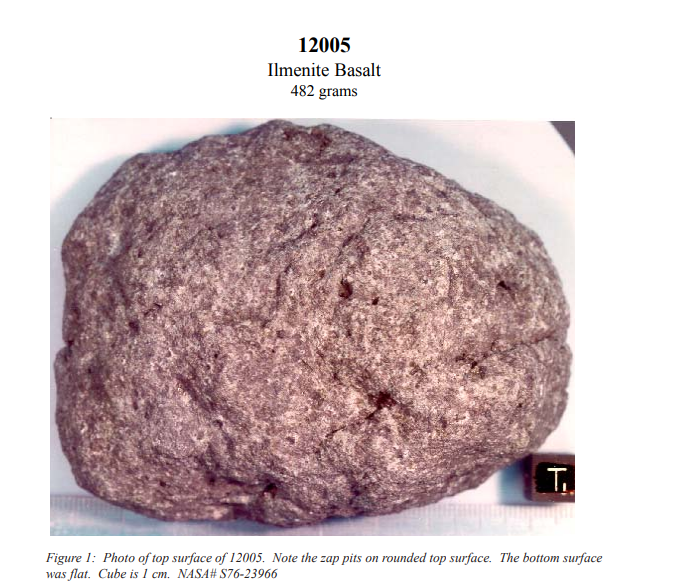Basalt: (50, 115, 587, 537)
